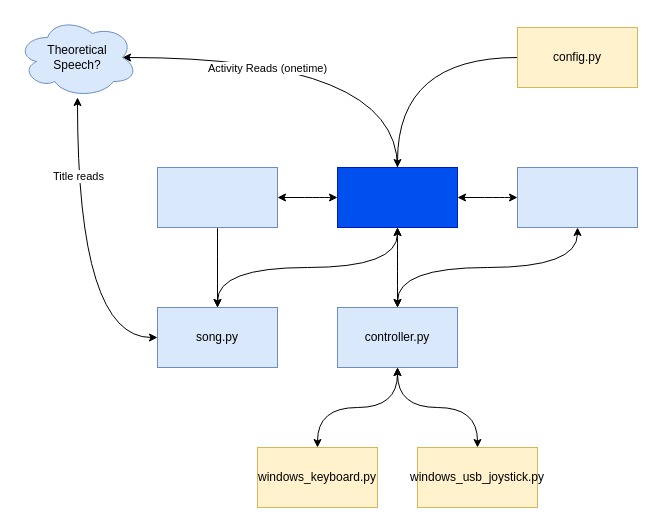
Image size: 655x525. Some labels were removed from this diagram. The centre of each missing label's shape, as x and y in pixels:
event.py: point 577,197
metafiddler.py: point 397,197
page.py: point 217,197
